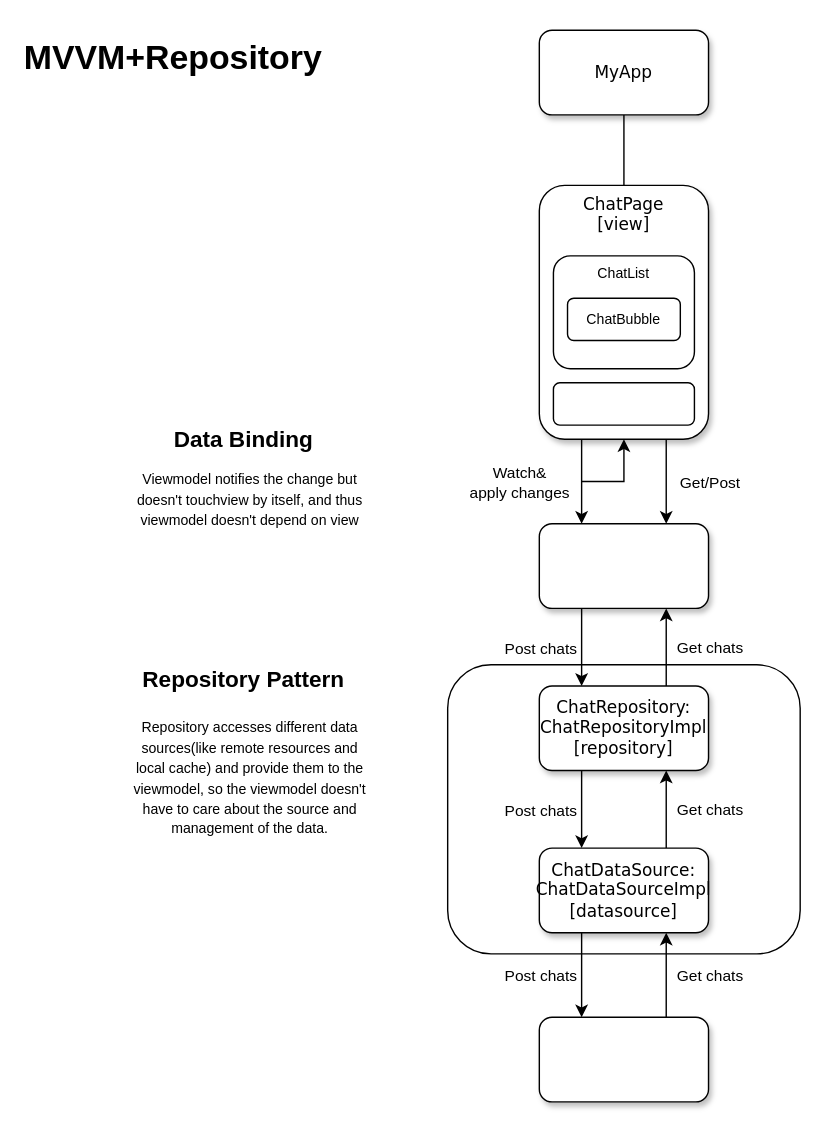
The diagram is 825 pixels wide and 1136 high, and some of its shapes have lost their labels. The shapes that lost their labels are listed below. From the top down, each one's centre as x and y in pixels, then its label:
[623,403]: ChatTextField
[624,567]: ChatViewModel [viewmodel]
[624,1061]: Server
